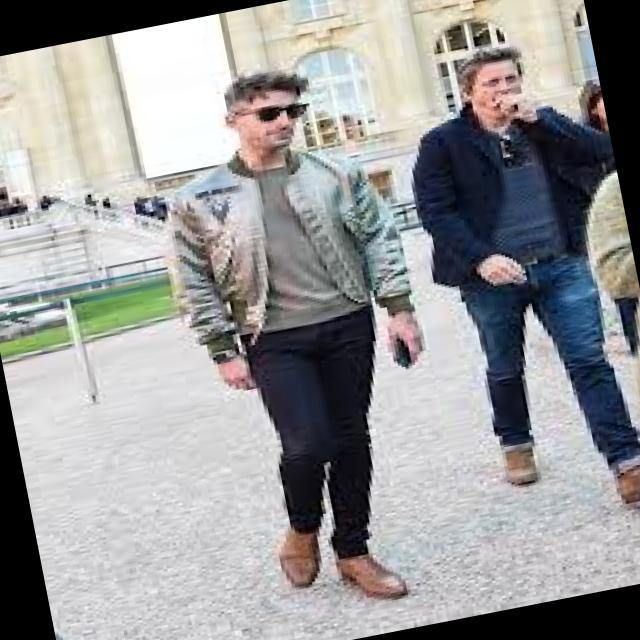Jacket: (148, 108, 402, 356), (402, 82, 604, 297)
